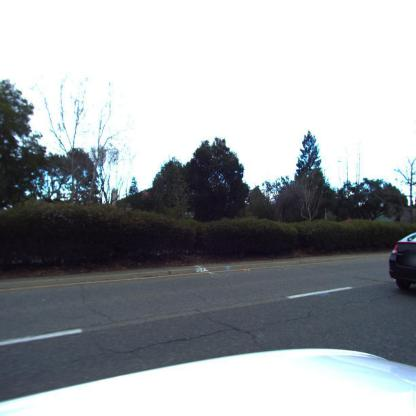car: (388, 227, 416, 297)
